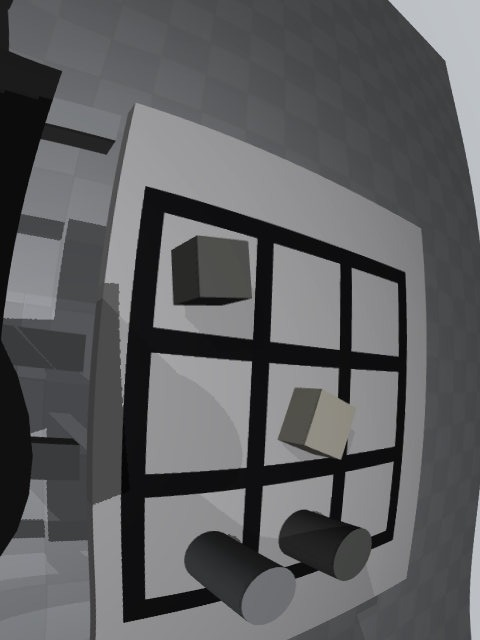can: (184, 531, 296, 625)
cube: (171, 235, 252, 306)
cylinder: (278, 509, 372, 581)
foam: (278, 387, 356, 460)
